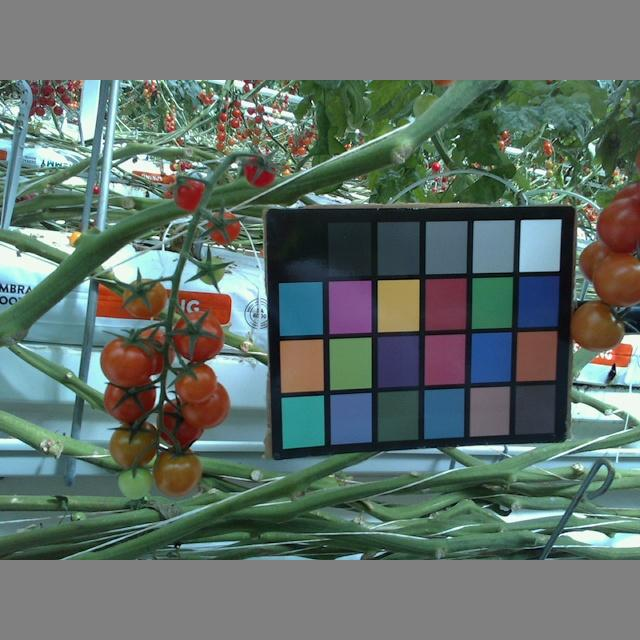green: (101, 375, 154, 419), (115, 468, 152, 500), (195, 256, 230, 284)
pink: (582, 237, 639, 289), (169, 311, 225, 362), (568, 303, 625, 353), (178, 377, 231, 430), (101, 335, 156, 386), (108, 420, 159, 470), (597, 192, 640, 251), (156, 399, 211, 445), (152, 444, 201, 495), (593, 253, 640, 306), (123, 278, 168, 316), (176, 363, 218, 402), (208, 211, 241, 246)
red: (173, 175, 210, 215), (242, 158, 277, 188)
